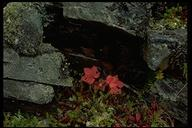flower: (80, 63, 126, 101)
rock: (4, 3, 76, 108)
